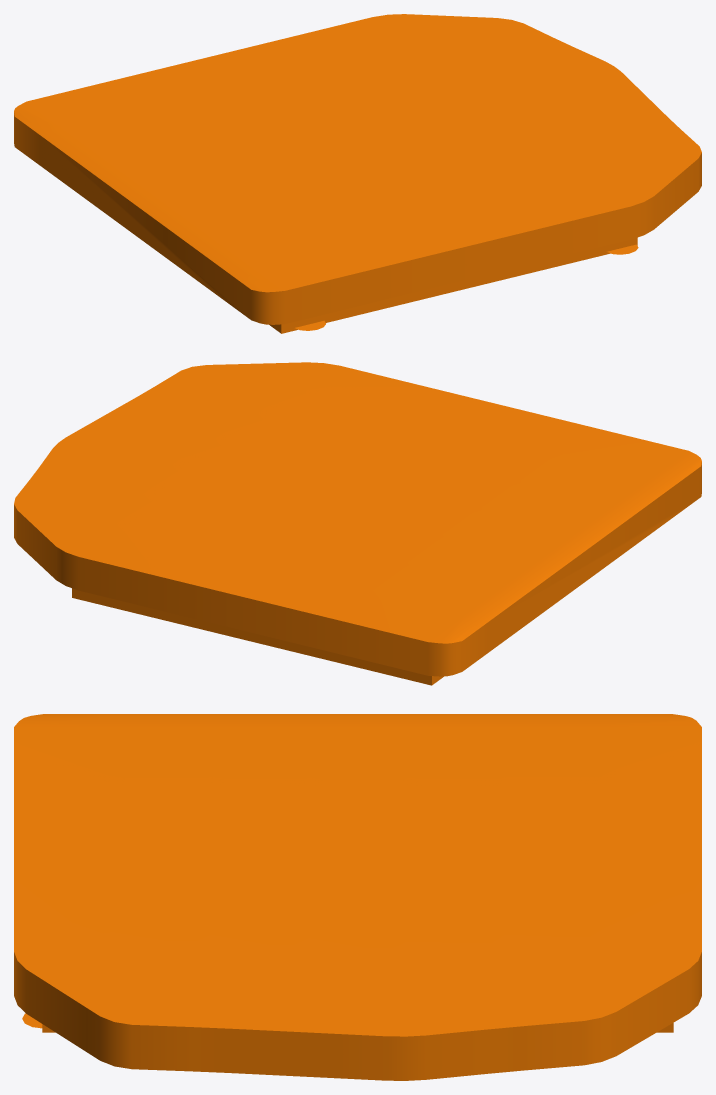
File: sandalye_oturakfbx.fbx
3 renders of one model, top to bottom at view 1: azimuth 30°, elevation 25°; view 2: azimuth 150°, elevation 25°; view 3: azimuth 270°, elevation 25°, orthographic. The views are drawn at different scales.
Visible parts, largest first — view 1: oturak; view 2: oturak; view 3: oturak.
Part boxes in pixels (left/top/right/bottom): oturak: left=14, top=14, right=701, bottom=333; oturak: left=14, top=362, right=701, bottom=685; oturak: left=14, top=714, right=701, bottom=1080.
Bounding box in the file's own units: 116 × 11.72 × 104.
